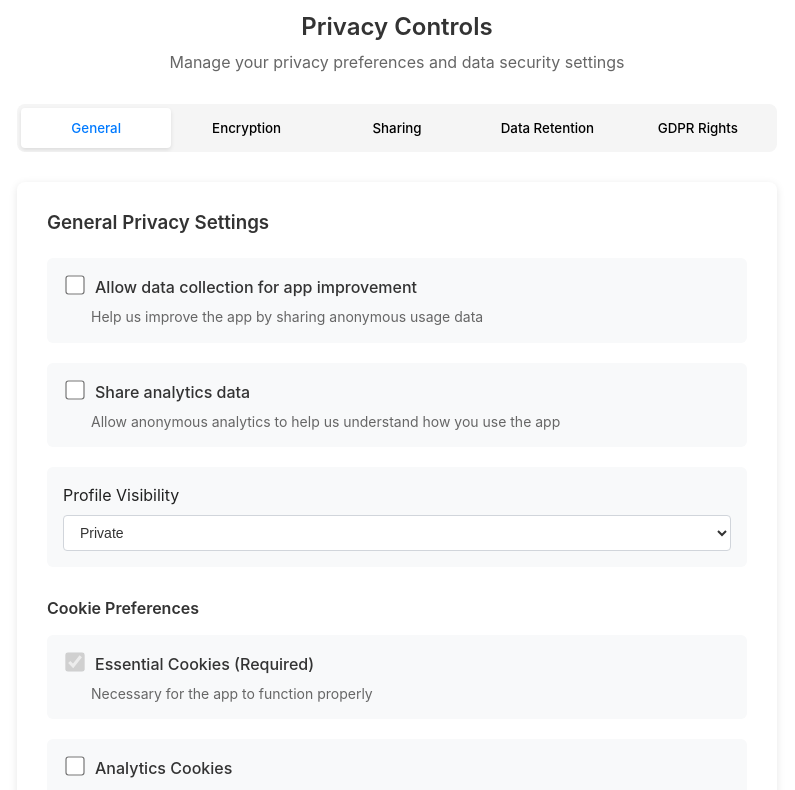
Test: PrivacyControlsComponent › Encryption Tab › should show encryption status and controls
Click the button "Encryption" at (247, 128), box [171,108,322,148]
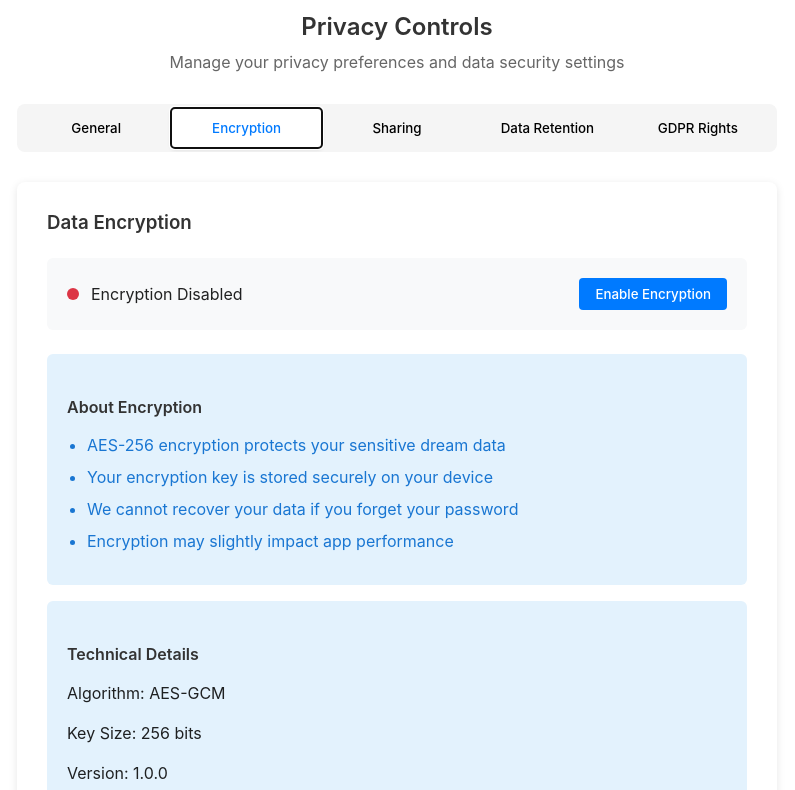
Now the heading "Data Encryption" is shown, box [47,211,192,234]
Now the text "Encryption Disabled" is shown, box [91,282,243,306]
Now the button "Enable Encryption" is shown, box [579,278,727,310]
